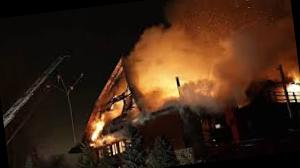Fire: (81, 116, 111, 141)
Smoke: (129, 0, 300, 116)
